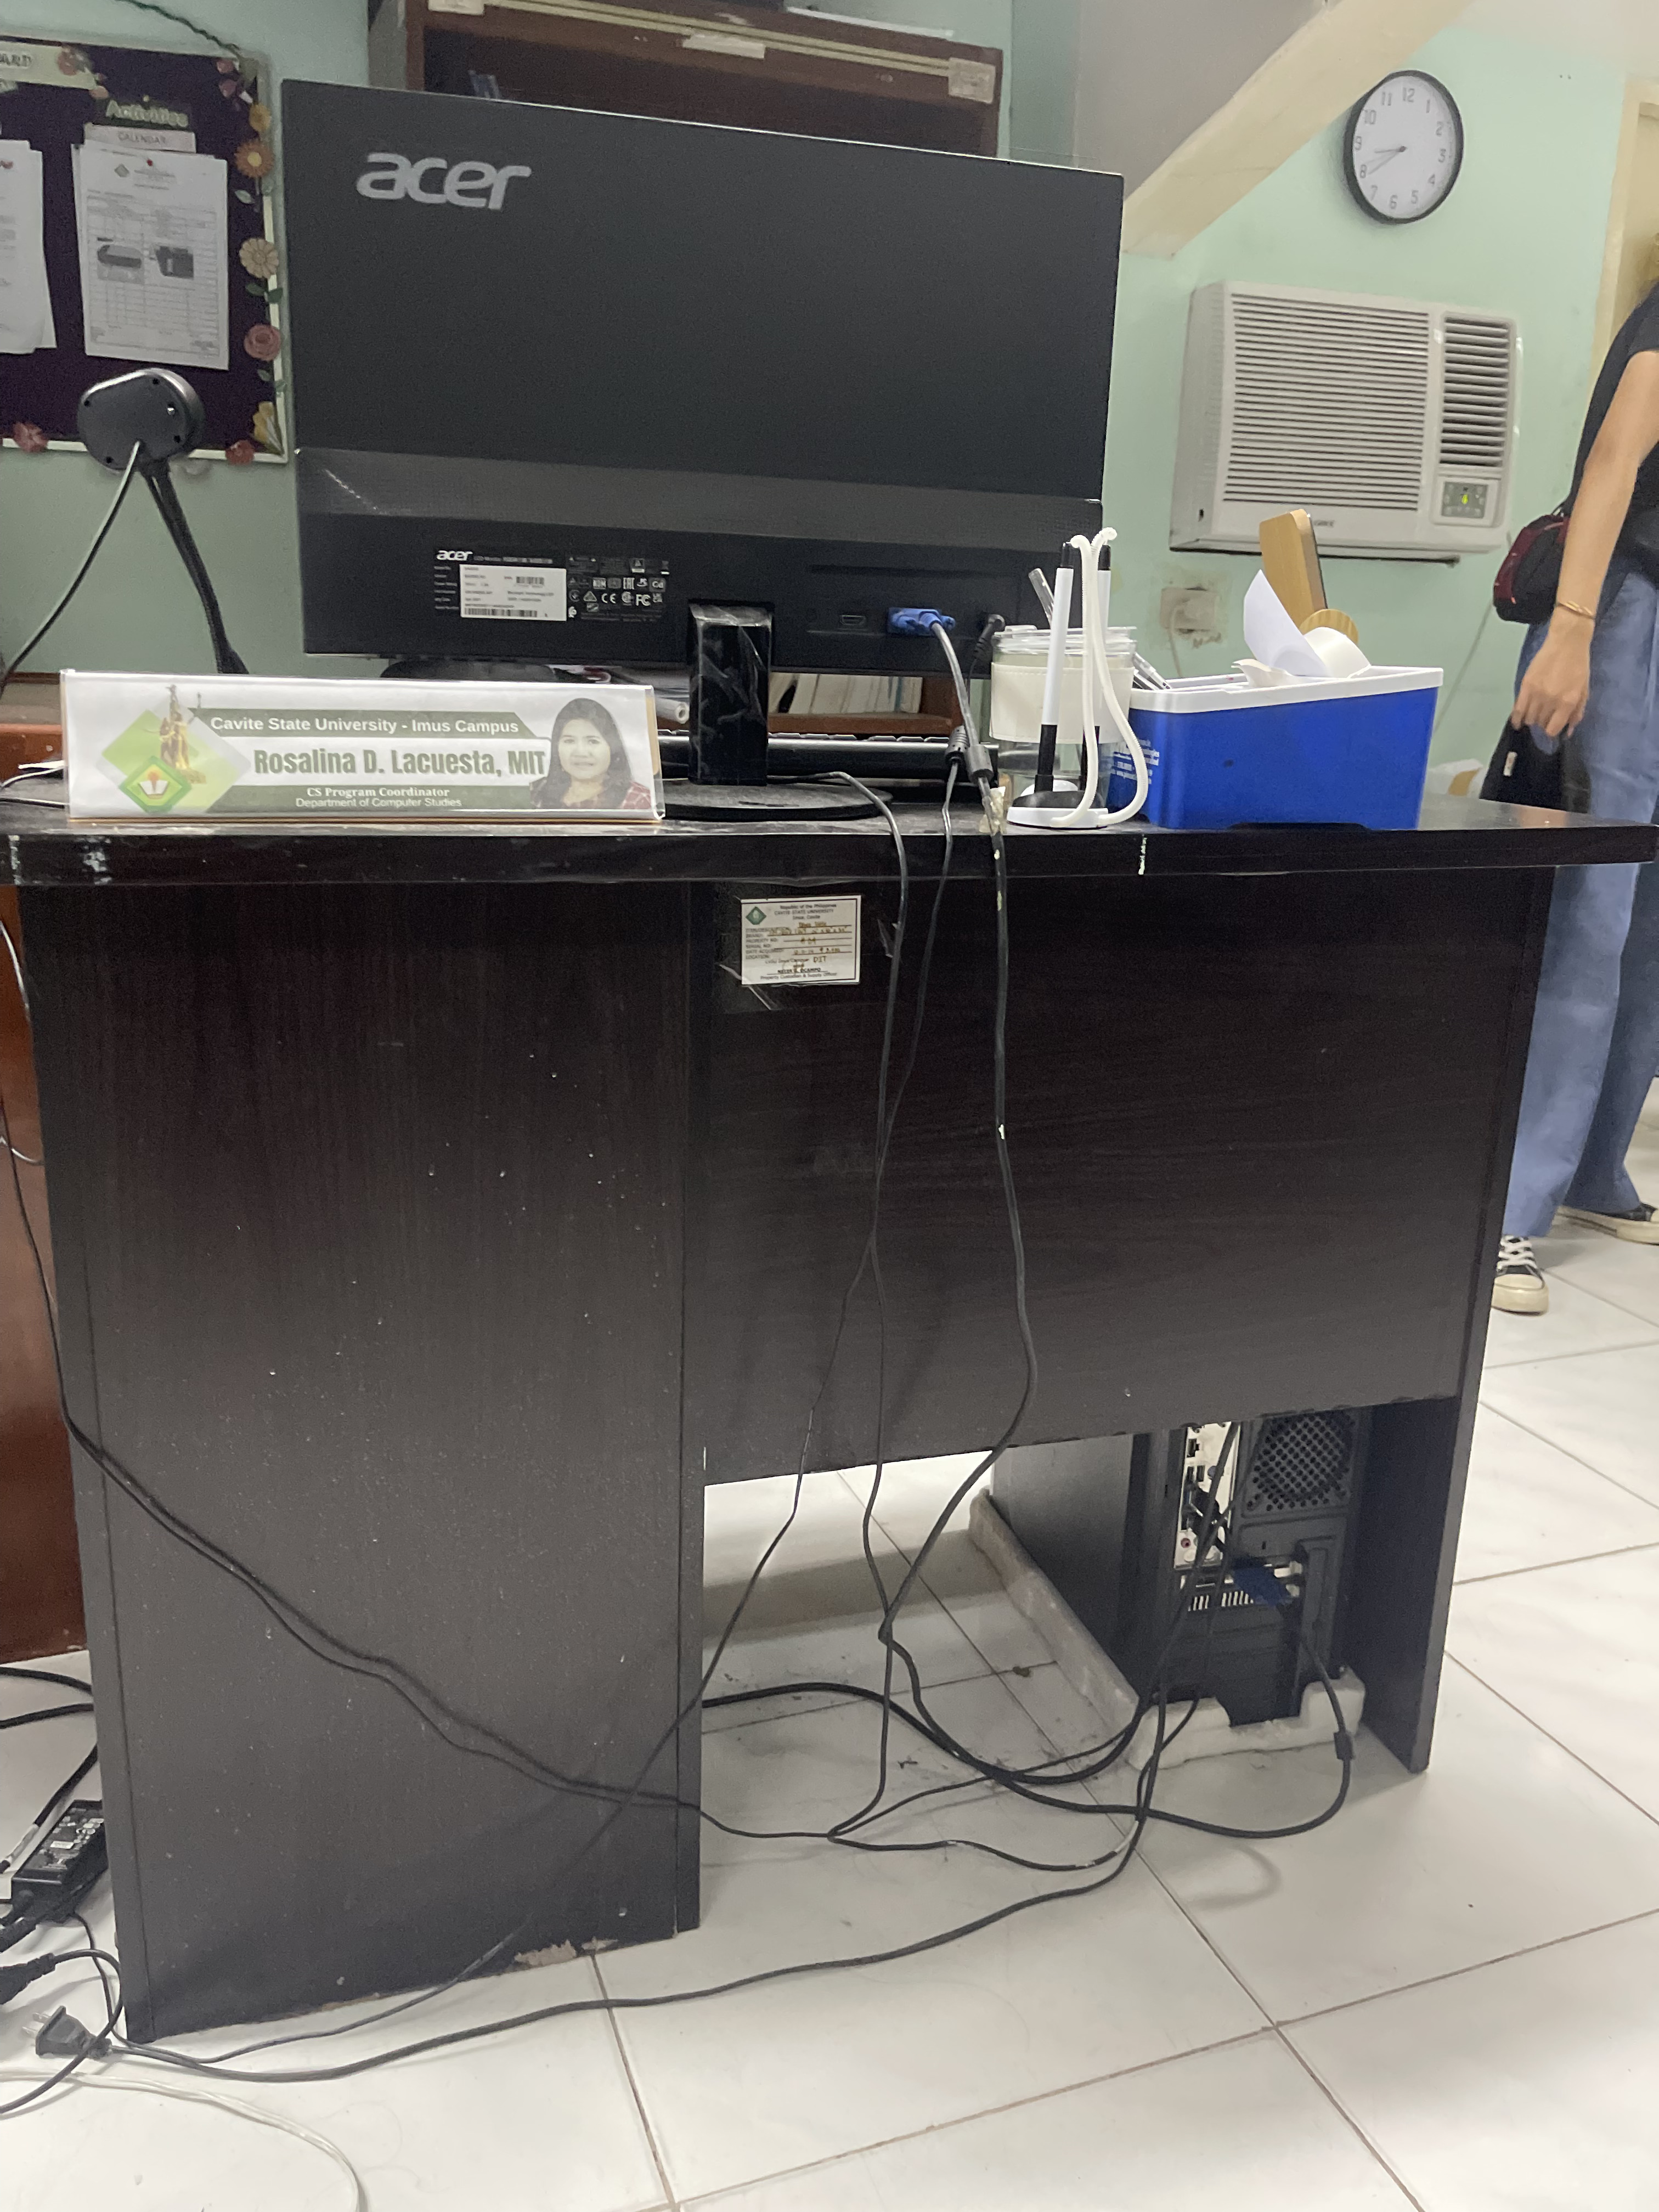table1: (5, 721, 1659, 2050)
